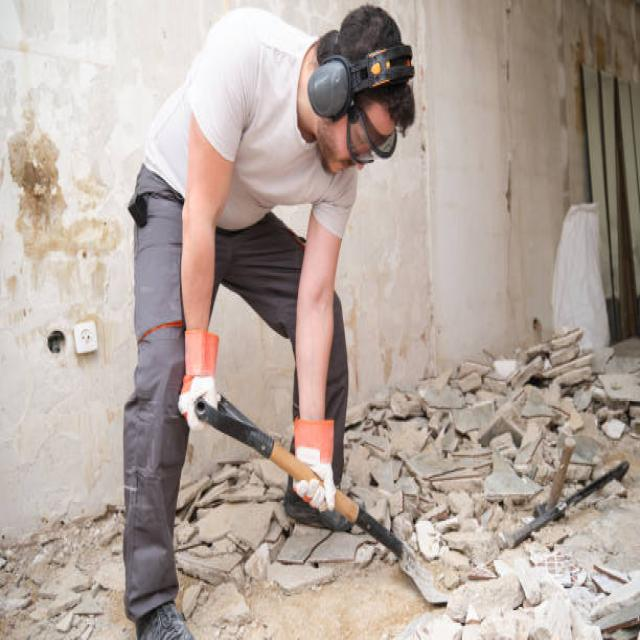gloves: (176, 329, 220, 428), (292, 421, 334, 512)
